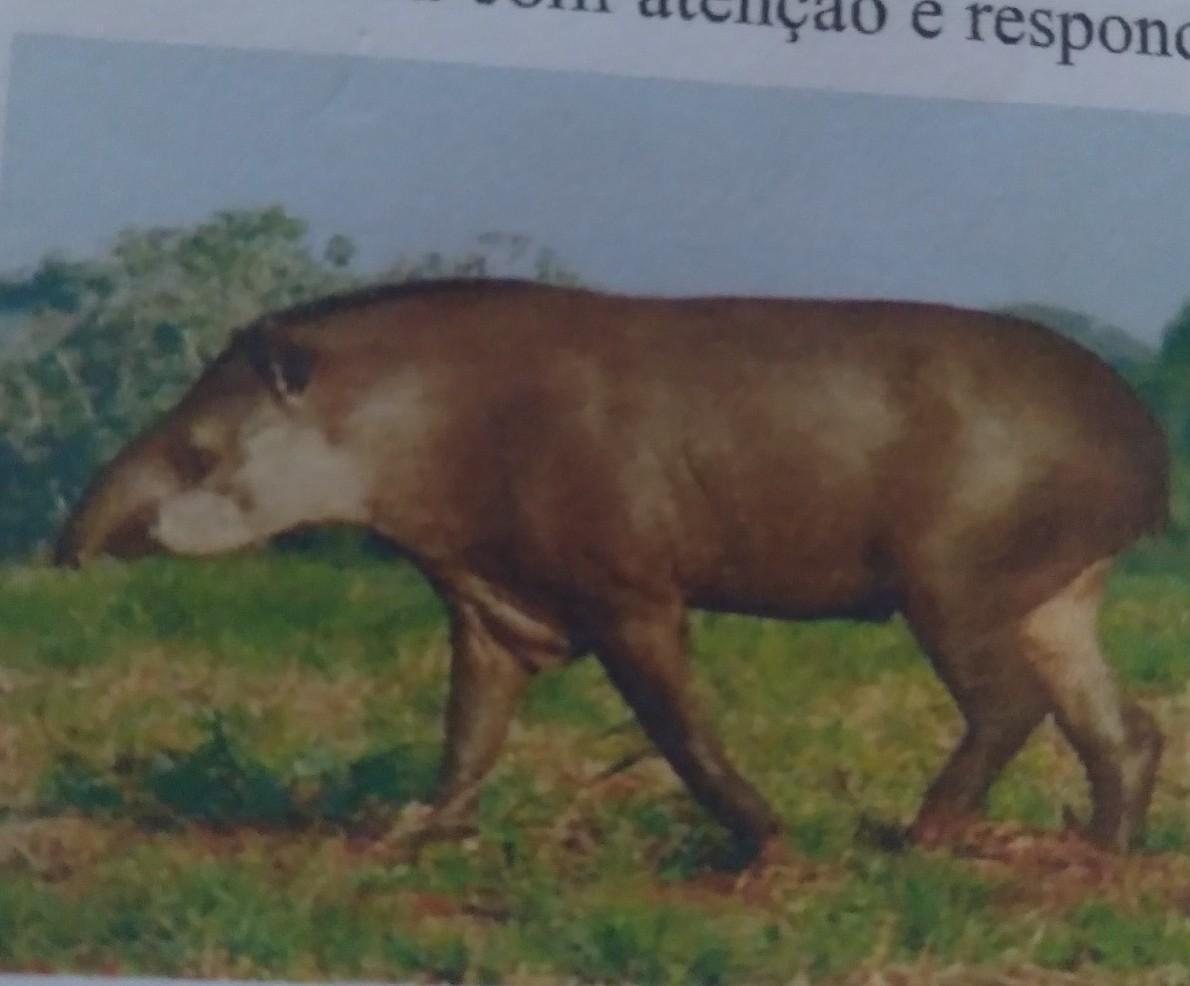Anta: (48, 248, 1175, 896)
